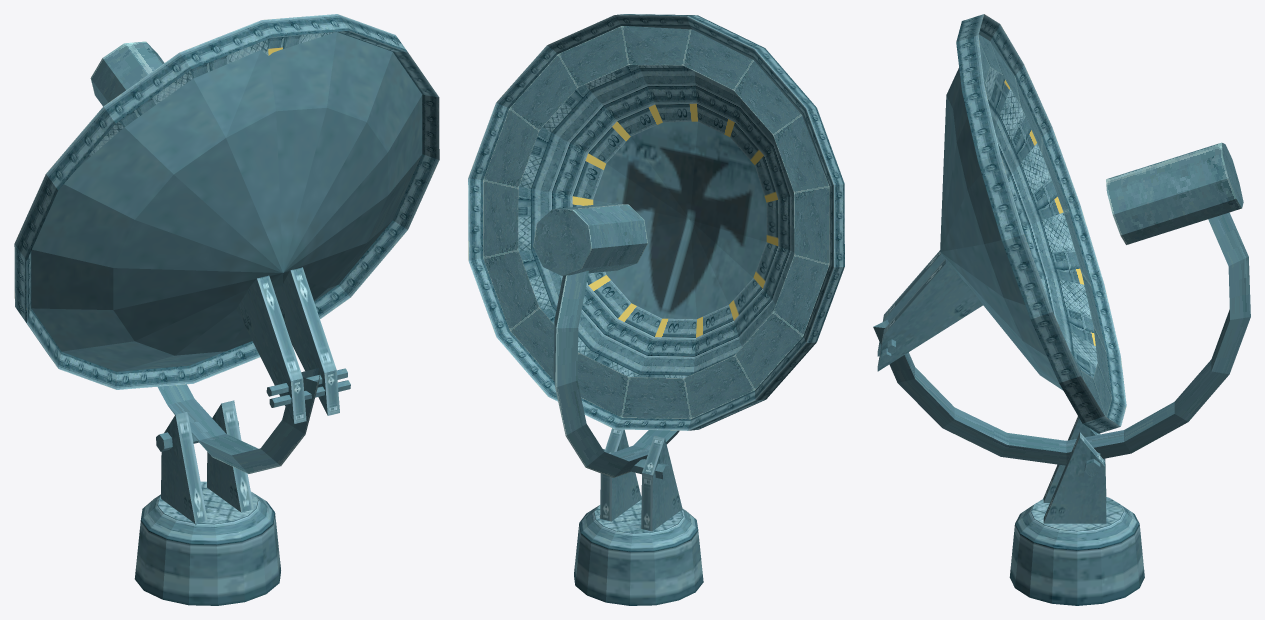
File: C4SMRADIOD.obj
The picture shows the model from 3 angles, left to right: view 1: azimuth 30°, elevation 25°; view 2: azimuth 150°, elevation 25°; view 3: azimuth 270°, elevation 25°; orthographic projection. The views are drawn at different scales.
Parts seen in each view (by area): view 1: Node 0; view 2: Node 0; view 3: Node 0.
Part boxes in pixels (box(x1,y1,x2,y2)): Node 0: box(14, 14, 439, 605); Node 0: box(468, 14, 844, 605); Node 0: box(873, 14, 1250, 605).
Size of the model in its own units: 8.36 by 11.51 by 7.27.
3 materials, 3 textured.
